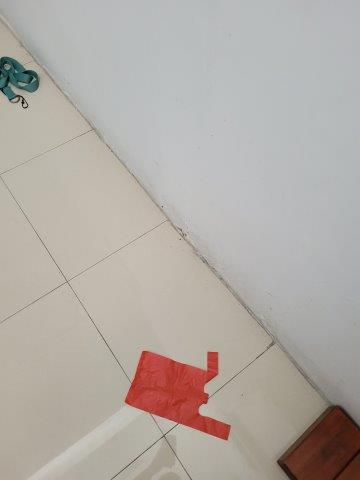plastik: (127, 352, 230, 442)
